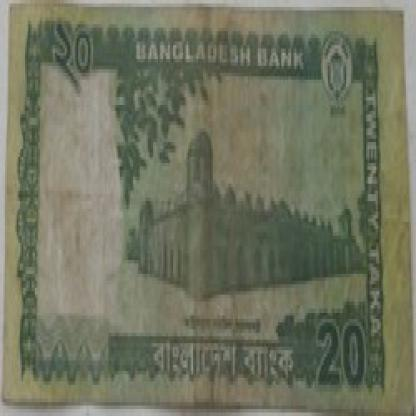Twenty: (43, 17, 108, 118), (318, 312, 366, 388)
